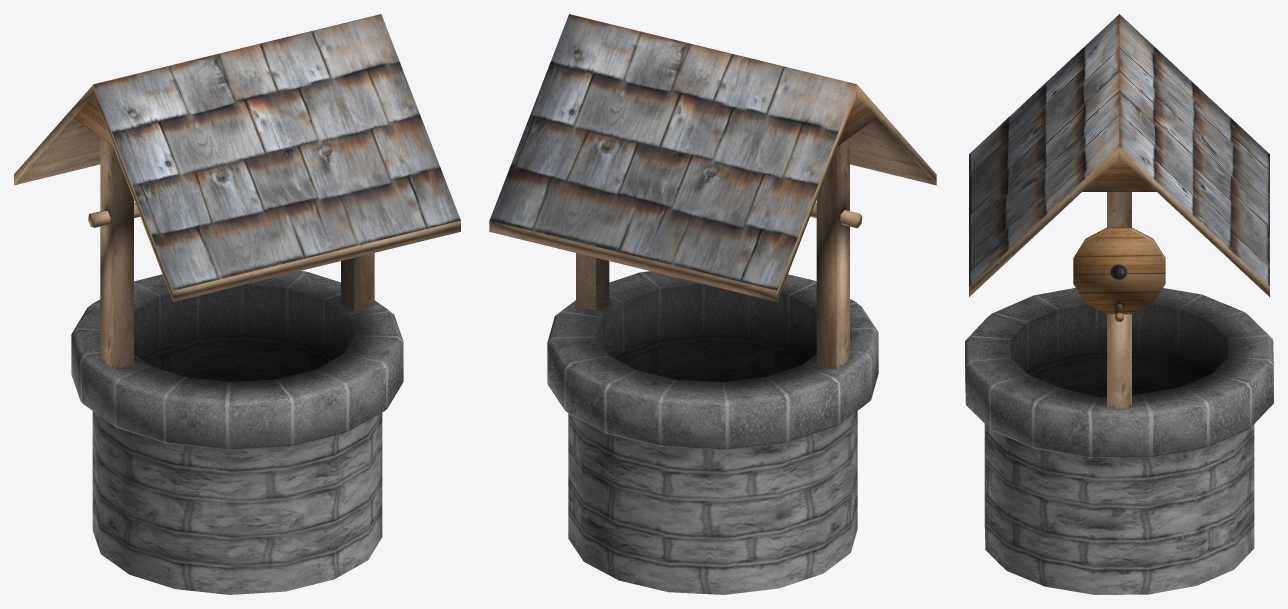
File: well.fbx
The picture shows the model from 3 angles, left to right: view 1: azimuth 30°, elevation 25°; view 2: azimuth 150°, elevation 25°; view 3: azimuth 270°, elevation 25°; orthographic projection. The views are drawn at different scales.
Parts seen in each view (by area): view 1: well.covered; view 2: well.covered; view 3: well.covered.
Boxes of the visible parts, <box> form: well.covered: <box>14,14,460,594</box>; well.covered: <box>489,14,936,594</box>; well.covered: <box>965,14,1273,594</box>.
Bounding box in the file's own units: 214 × 322 × 197.
1 material, 1 textured.
